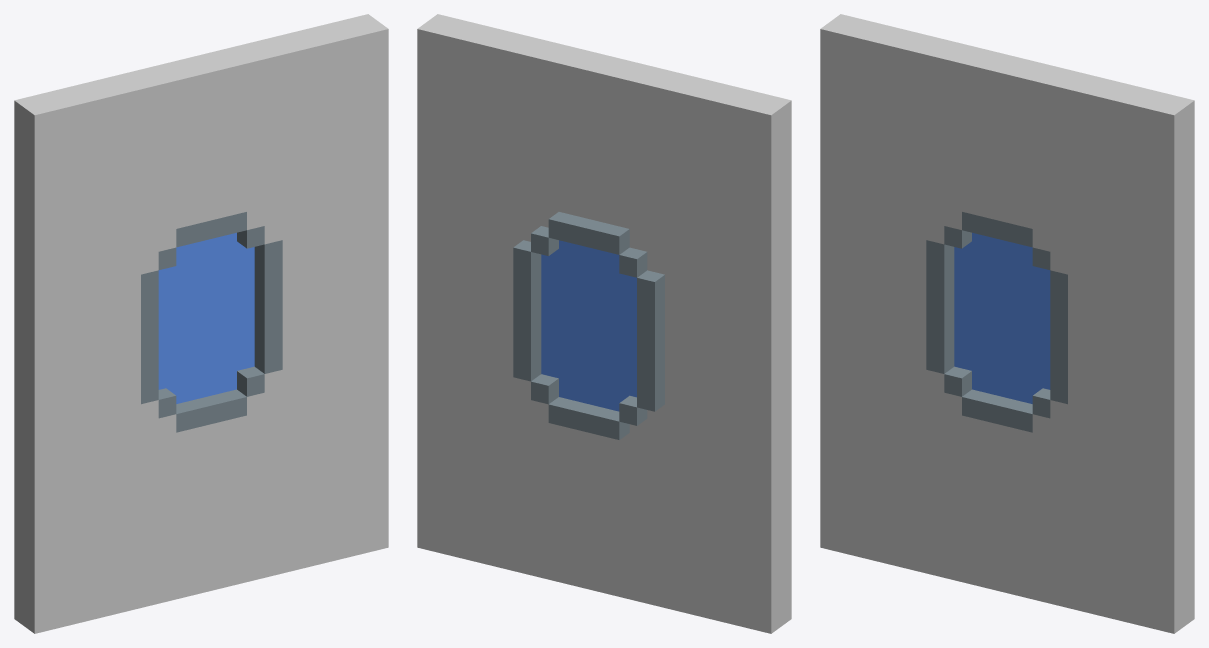
The model's file is wall_window.gltf.
The picture shows the model from 3 angles, left to right: view 1: azimuth 30°, elevation 25°; view 2: azimuth 150°, elevation 25°; view 3: azimuth 330°, elevation 25°; orthographic projection.
Visible parts, largest first — view 1: Layer.1, Layer.2; view 2: Layer.1, Layer.2; view 3: Layer.1, Layer.2.
Boxes of the visible parts, x1,y1,x2,y2 form: Layer.1: [14, 14, 388, 633]; Layer.2: [158, 232, 254, 403]; Layer.1: [417, 14, 791, 633]; Layer.2: [541, 240, 636, 411]; Layer.1: [820, 14, 1194, 633]; Layer.2: [954, 232, 1050, 403].
Bounding box in the file's own units: 20 × 28 × 3.
